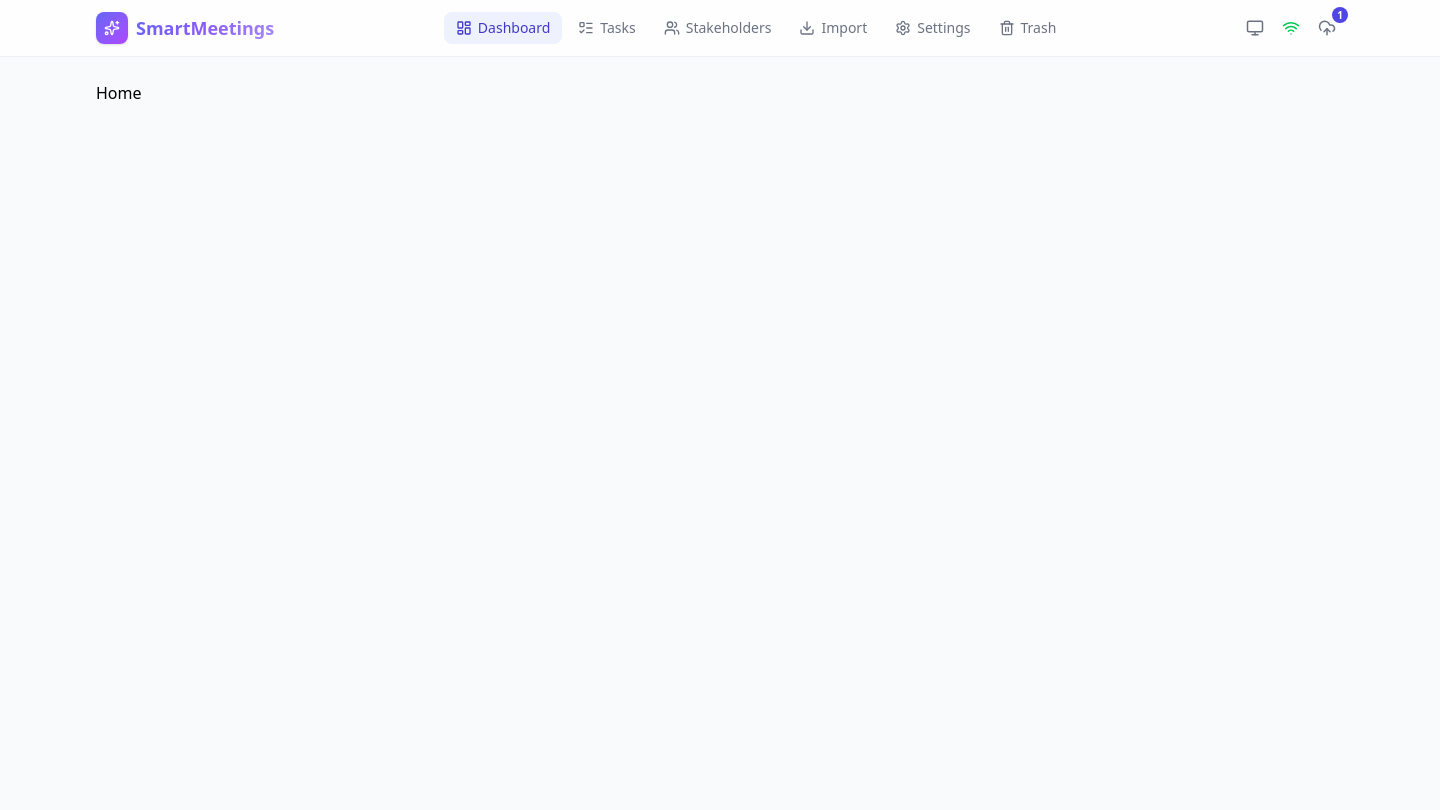
Test case: SyncService › SyncButton › shows warning toast when sync not configured
Click the button named "sync". click: (1327, 28)
box: [1310,11,1344,45]
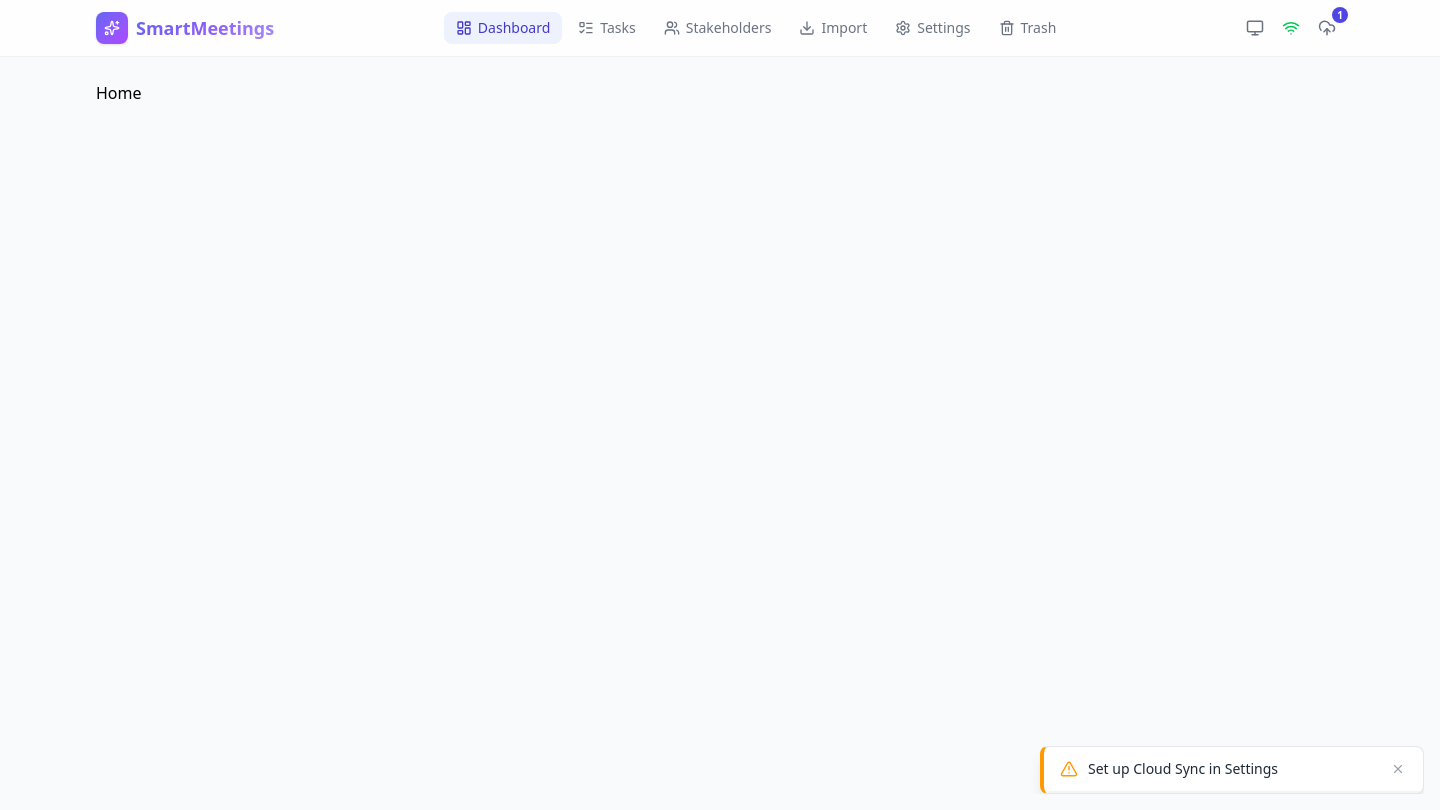
Now the text "Set up Cloud Sync in Settings" is shown, box [1088,759,1278,778]
